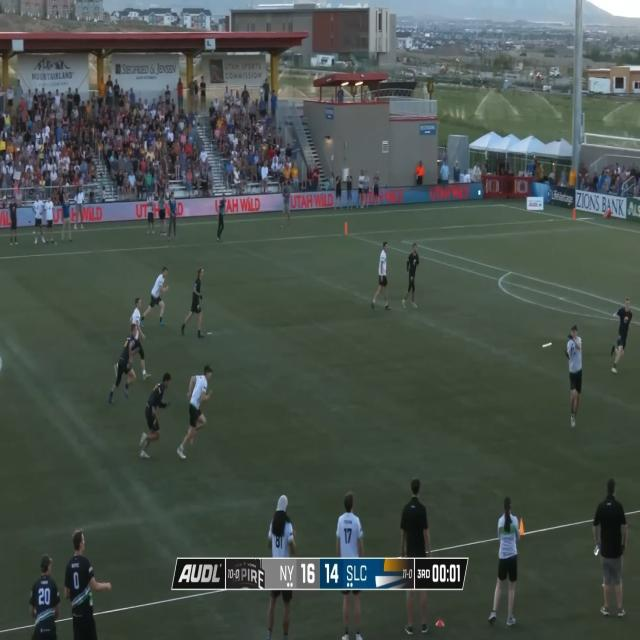Disc: (542, 342, 552, 348)
Player: (178, 364, 214, 459), (114, 299, 151, 378), (140, 371, 171, 458), (109, 324, 138, 404), (141, 262, 167, 328), (567, 323, 582, 428), (181, 269, 204, 334), (612, 299, 632, 371), (403, 237, 423, 308), (373, 240, 389, 316)
